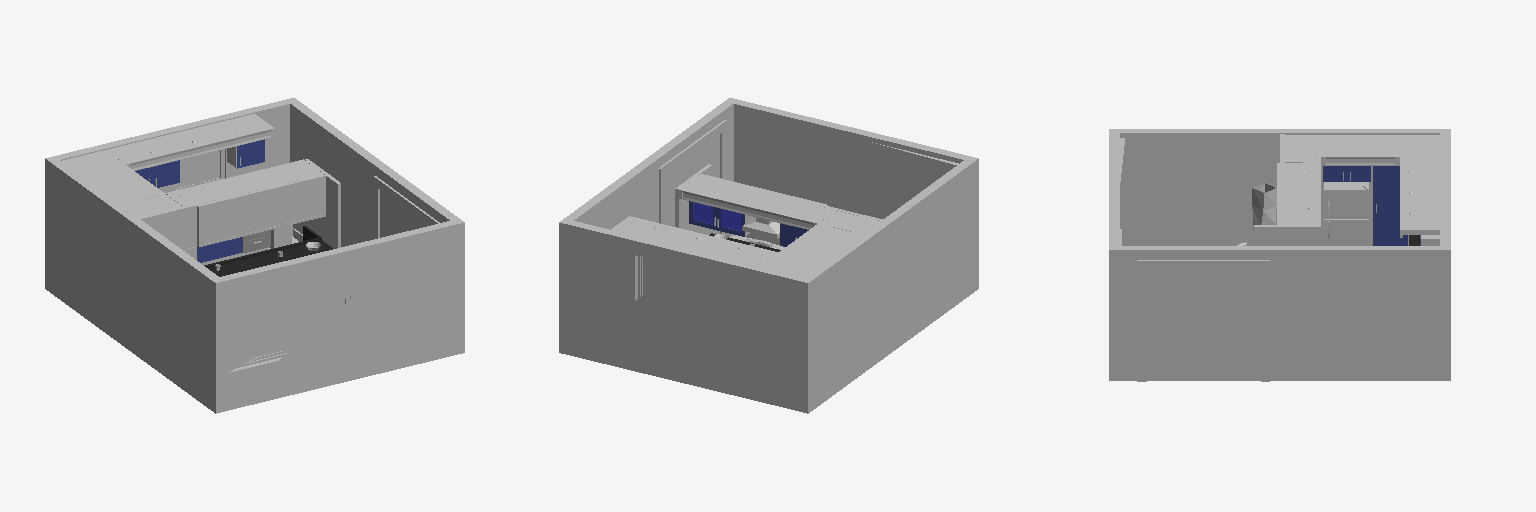
File: kitchen.obj
3 views of the same model, side by side, from view 1: azimuth 30°, elevation 25°; view 2: azimuth 150°, elevation 25°; view 3: azimuth 270°, elevation 25° (orthographic).
Visible parts, largest first — view 1: Wall, Cabinet1.007, Cabinet1.011_Cabinet1.014, Cabinet1.012_Cabinet1.015, Cabinet1.013_Cabinet1.008, Countertop2.001, Cabinet1.001, Cabinet1.005, Door_Door.001, Window_Panel.007_Window_Panel.030, Window_Panel.001_Window_Panel.015, Cabinet5_Door.001 (+2 smaller); view 2: Wall, Cabinet1.013_Cabinet1.008, Cabinet1.012_Cabinet1.015, Cabinet1.011_Cabinet1.014, Door_Door.001, Cabinet1.005, Window_Panel.007_Window_Panel.030, Cabinet1_Door.001, Cabinet2_Door.001, Cube_Cube.003; view 3: Wall, Cabinet1.012_Cabinet1.015, Door_Door.001, Cabinet1.011_Cabinet1.014, Cabinet1.013_Cabinet1.008, fridge.001_Cube.004, Cabinet1_Door.002, Cabinet1.005, Cube.002_Cube.008.
Part boxes in pixels (bbox=[...]): Wall: bbox=[45, 98, 464, 413]; Cabinet1.007: bbox=[197, 174, 325, 246]; Cabinet1.011_Cabinet1.014: bbox=[106, 114, 274, 170]; Cabinet1.012_Cabinet1.015: bbox=[62, 150, 182, 217]; Cabinet1.013_Cabinet1.008: bbox=[165, 159, 322, 206]; Countertop2.001: bbox=[204, 226, 332, 276]; Cabinet1.001: bbox=[139, 204, 196, 259]; Cabinet1.005: bbox=[304, 159, 340, 248]; Door_Door.001: bbox=[373, 176, 439, 239]; Window_Panel.007_Window_Panel.030: bbox=[199, 150, 222, 184]; Window_Panel.001_Window_Panel.015: bbox=[288, 296, 349, 351]; Cabinet5_Door.001: bbox=[237, 139, 264, 168]; Wall: bbox=[559, 98, 978, 413]; Cabinet1.013_Cabinet1.008: bbox=[678, 175, 835, 229]; Cabinet1.012_Cabinet1.015: bbox=[761, 210, 879, 276]; Cabinet1.011_Cabinet1.014: bbox=[611, 216, 777, 265]; Door_Door.001: bbox=[659, 120, 726, 234]; Cabinet1.005: bbox=[675, 164, 711, 234]; Window_Panel.007_Window_Panel.030: bbox=[641, 257, 663, 296]; Cabinet1_Door.001: bbox=[689, 201, 716, 229]; Cabinet2_Door.001: bbox=[717, 208, 744, 236]; Cube_Cube.003: bbox=[742, 217, 779, 238]; Wall: bbox=[1109, 129, 1450, 380]; Cabinet1.012_Cabinet1.015: bbox=[1285, 135, 1439, 165]; Door_Door.001: bbox=[1137, 260, 1269, 381]; Cabinet1.011_Cabinet1.014: bbox=[1400, 157, 1439, 237]; Cabinet1.013_Cabinet1.008: bbox=[1281, 157, 1320, 224]; fridge.001_Cube.004: bbox=[1324, 189, 1368, 245]; Cabinet1_Door.002: bbox=[1373, 166, 1407, 245]; Cabinet1.005: bbox=[1254, 225, 1320, 245]; Cube.002_Cube.008: bbox=[1252, 183, 1276, 229].
Size of the model in its own units: 5.45 by 2.74 by 6.4.